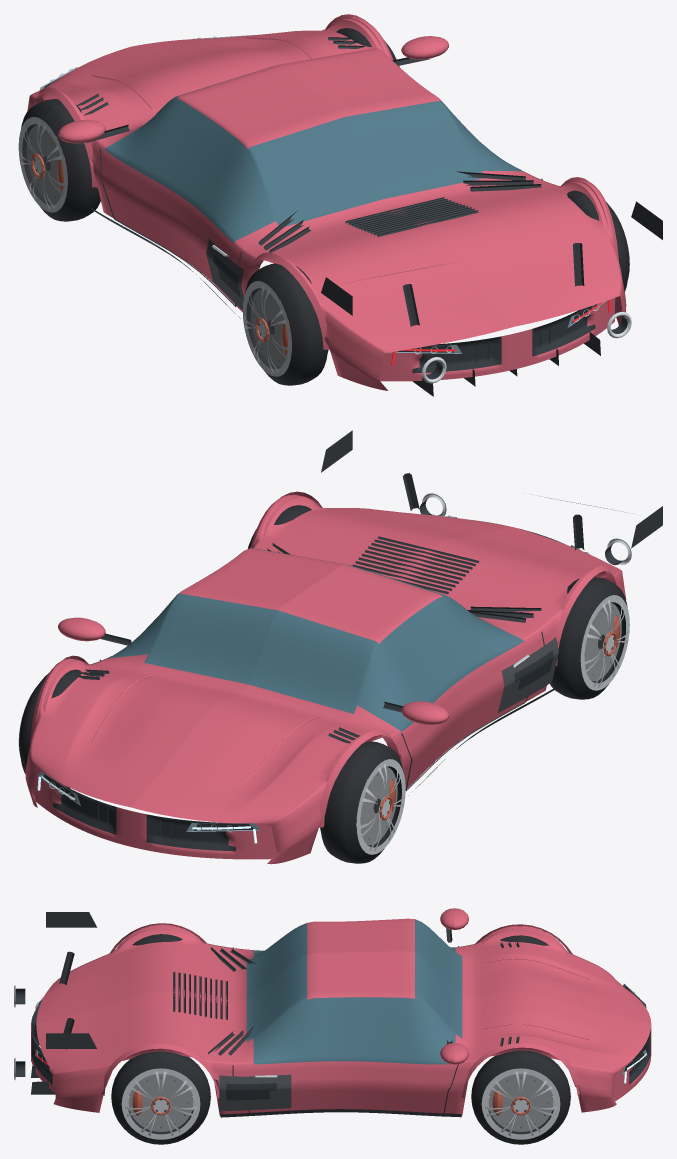
File: razor_x_medium.glb
3 views of the same model, one above another, from view 1: azimuth 30°, elevation 25°; view 2: azimuth 150°, elevation 25°; view 3: azimuth 270°, elevation 25° (orthographic). The views are drawn at different scales.
Visible parts, largest first — view 1: Body, Wheel_2, Wheel_0, Wheel_3; view 2: Body, Wheel_0, Wheel_2, Wheel_1; view 3: Body, Wheel_1, Wheel_3.
Boxes of the visible parts, x1,y1,x2,y2 form: Body: [27, 14, 662, 396]; Wheel_2: [242, 263, 328, 385]; Wheel_0: [18, 99, 100, 221]; Wheel_3: [567, 190, 629, 291]; Body: [25, 430, 662, 864]; Wheel_0: [320, 741, 405, 863]; Wheel_2: [550, 577, 629, 699]; Wheel_1: [18, 669, 81, 788]; Body: [14, 908, 651, 1117]; Wheel_1: [471, 1050, 570, 1144]; Wheel_3: [111, 1051, 210, 1144].
Size of the model in its own units: 2.6 by 1.05 by 4.69.
